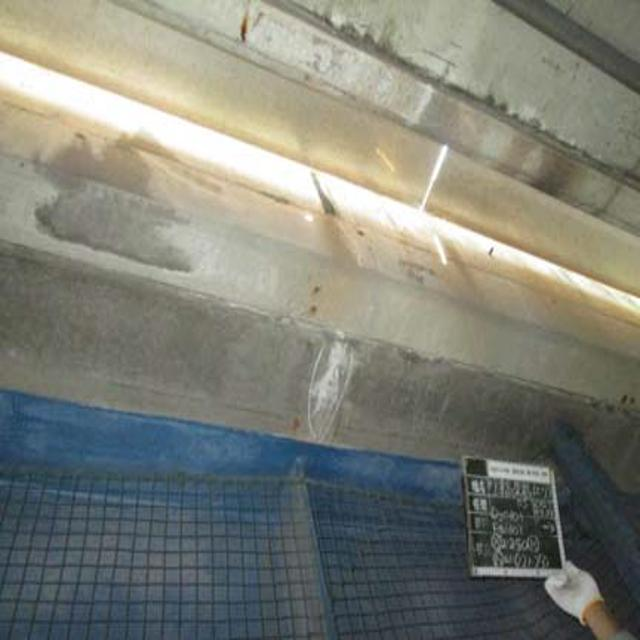freelime: (286, 336, 357, 446)
